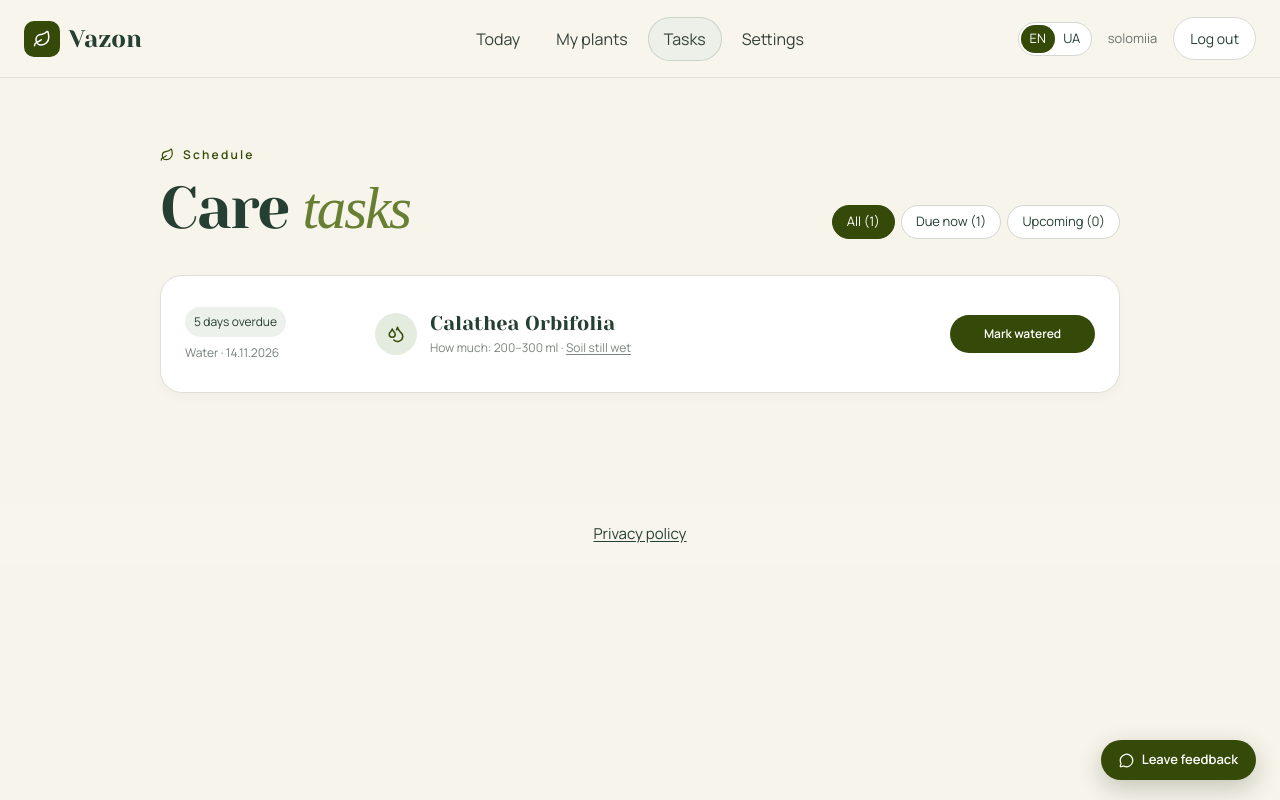
Dashboard and care schedule tasks › displays summary stats on dashboard and completes overdue tasks on tasks page
The image size is (1280, 800).
Later steps or results of the test are not shown.
Expected: the button "Due now (1)" is shown, x1=901 y1=205 x2=1001 y2=239
Expected: the text "How much: 200–300 ml · Soil still wet" is shown, x1=430 y1=339 x2=631 y2=357
Click the button "Mark watered": (1022, 334) x1=950 y1=315 x2=1095 y2=353
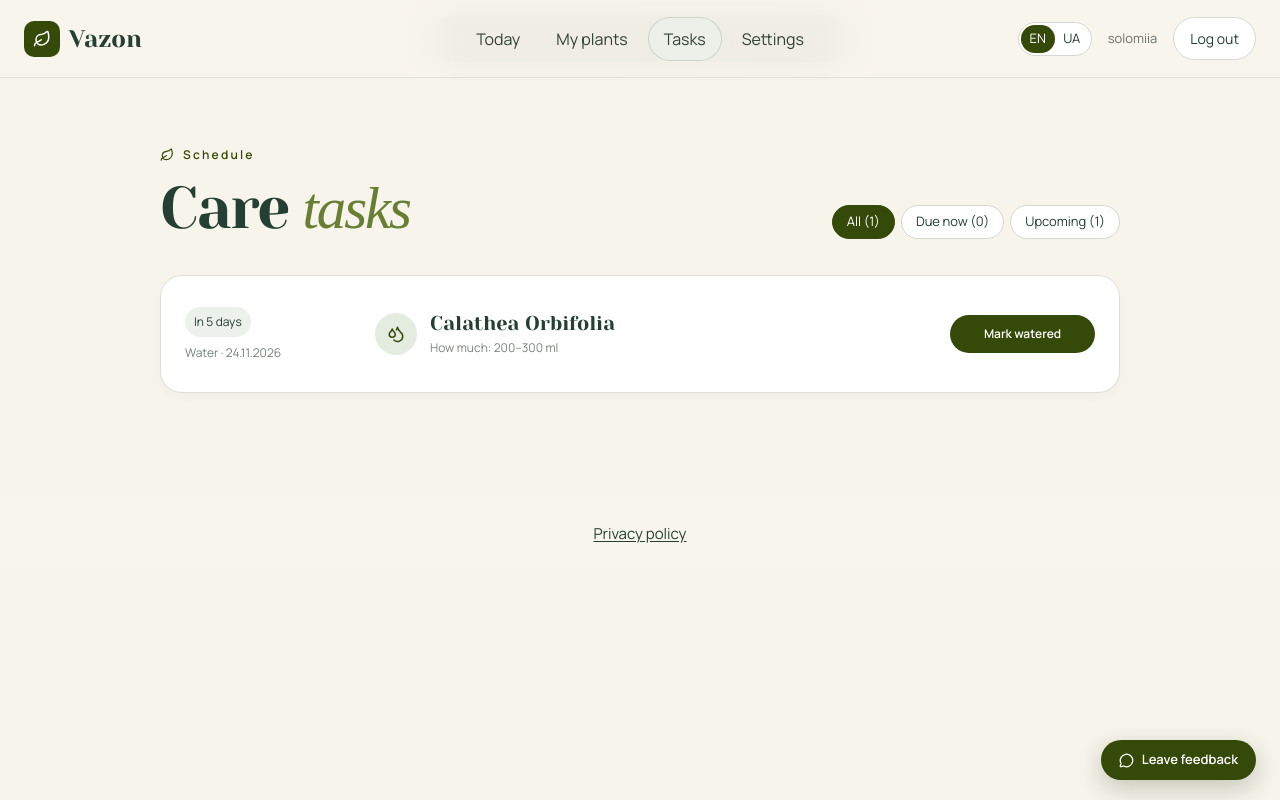
Now the button "Due now (0)" is shown, box x1=901 y1=205 x2=1004 y2=239
